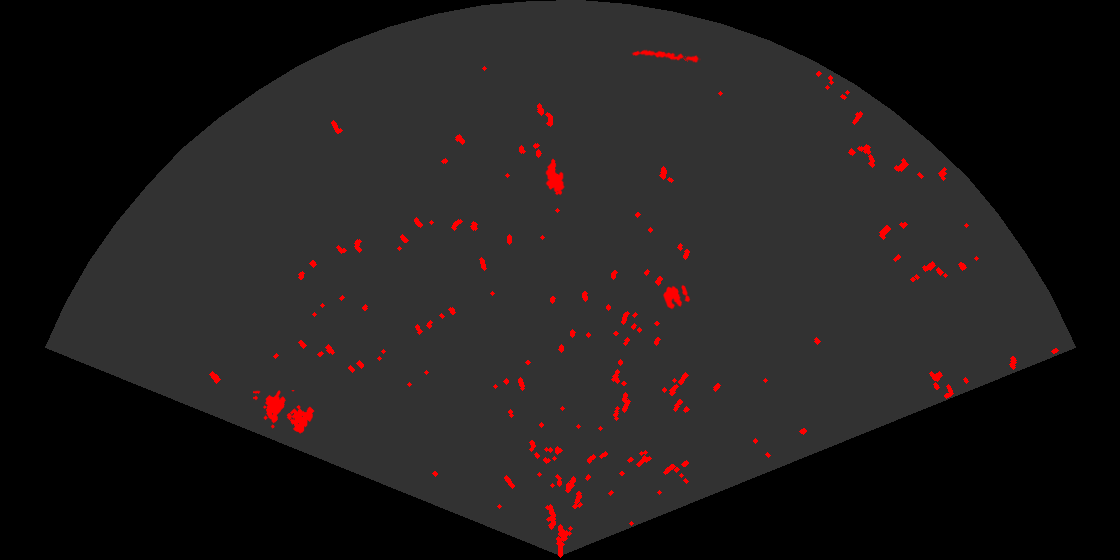AUV: (544, 157, 566, 197)
ball: (661, 283, 692, 311)
cage: (253, 390, 316, 435)
chain: (631, 48, 701, 64)
